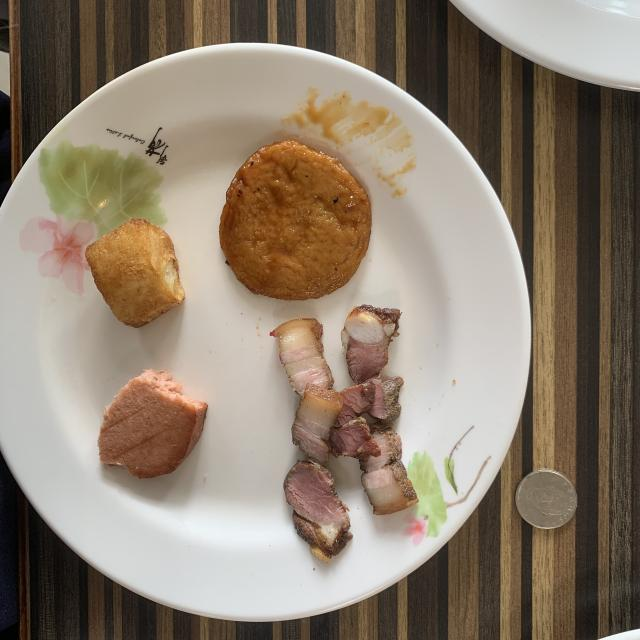Spam: (98, 369, 208, 479)
coin: (515, 469, 578, 529)
fish cake: (219, 140, 371, 300)
fried potato: (85, 219, 185, 328)
grilled pork: (271, 305, 419, 561)
